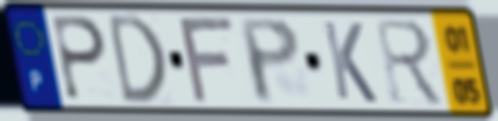D: (105, 11, 170, 108)
F: (176, 14, 238, 107)
K: (319, 18, 381, 107)
P: (236, 15, 303, 108), (49, 13, 110, 105)
R: (371, 16, 449, 110)
